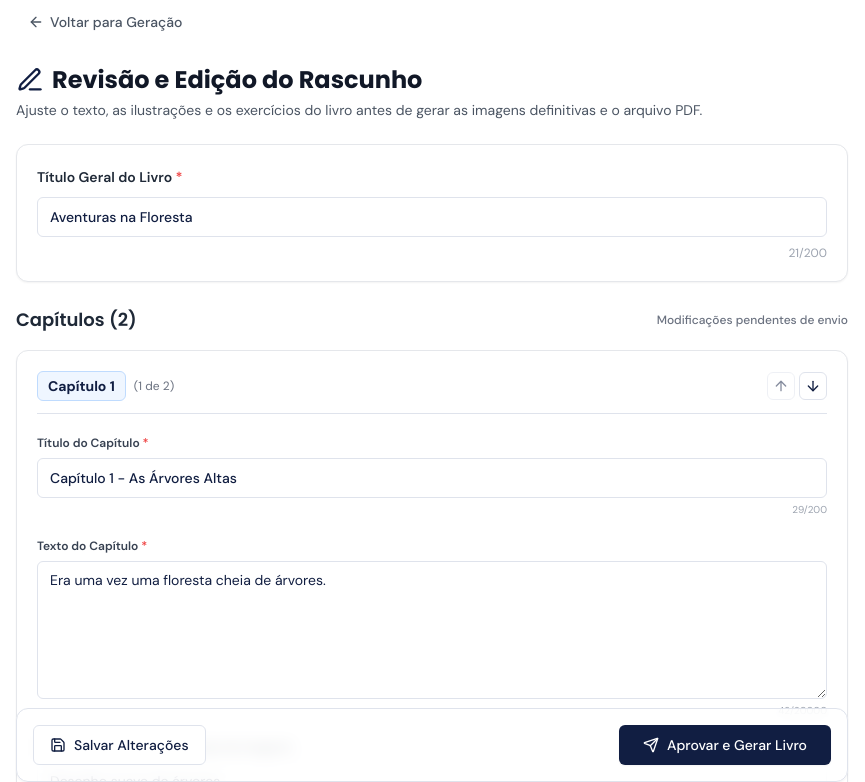
UI Tests — Rascunho, Edição, Salvar e Aprovar (Task 14.3) › preserva edições em falha de salvar
Replace the text in the field showing "Aventuras na Floresta" below "Título Geral do Livro" with "Título Modificado" at (432, 217), box [37,197,827,237]
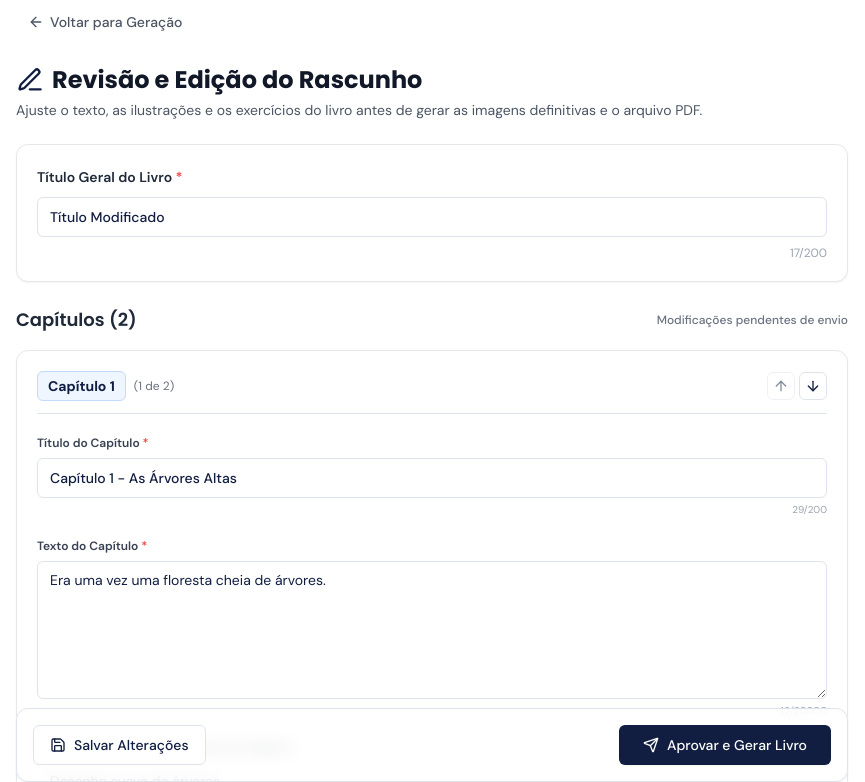
Click the button "Salvar Alterações" at (119, 745), box [33,725,206,765]
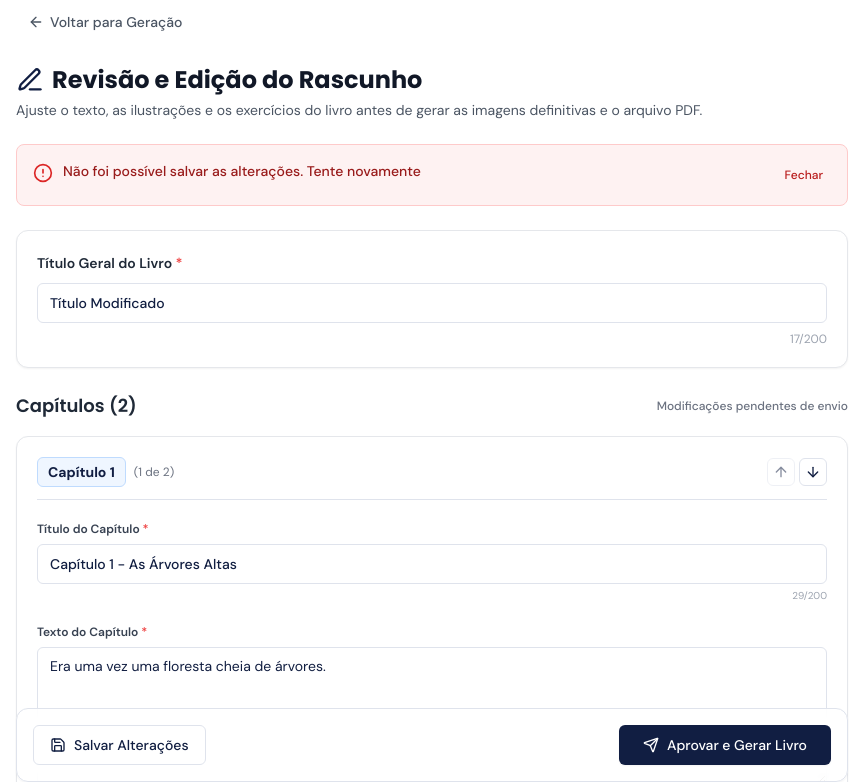
Check: the text "Não foi possível salvar as alterações. Tente novamente" is shown, box [63,161,421,181]
